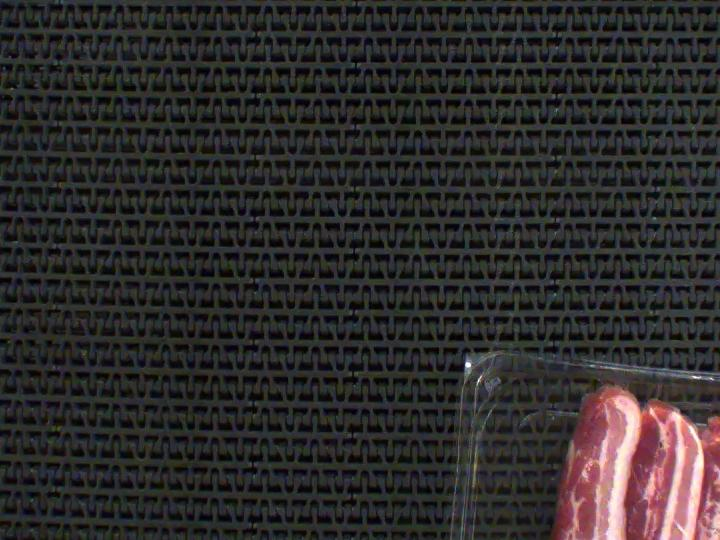packaging-error: (597, 368, 638, 394)
